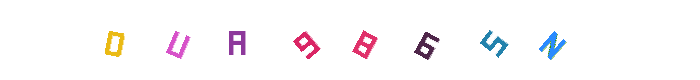5: (393, 0, 473, 80)
6: (310, 0, 390, 80)
8: (297, 0, 377, 80)
9: (290, 0, 370, 80)
A: (196, 0, 276, 80)
D: (76, 0, 156, 80)
N: (484, 0, 564, 80)
U: (137, 0, 217, 80)
